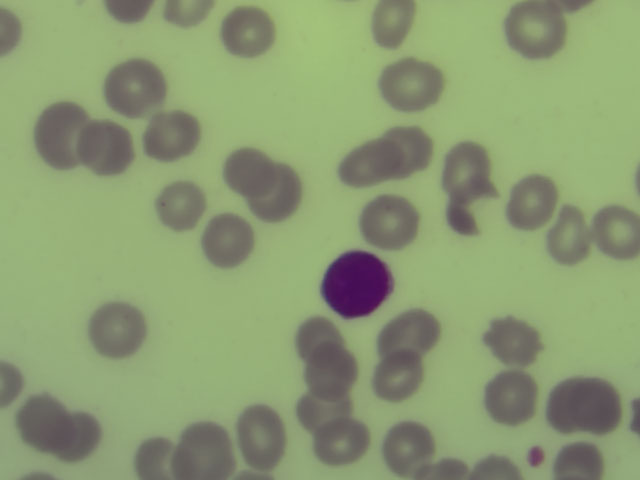Platlets: (525, 446, 544, 466)
RBC: (551, 380, 623, 438), (506, 4, 566, 62), (250, 162, 302, 225), (378, 61, 443, 111), (105, 61, 164, 116), (176, 424, 233, 480), (361, 194, 420, 248), (79, 122, 138, 175), (39, 101, 81, 173), (240, 404, 283, 473), (598, 201, 640, 271), (486, 312, 540, 366), (371, 348, 424, 403), (307, 340, 357, 398), (91, 307, 145, 359), (22, 396, 73, 451), (158, 182, 208, 237), (384, 423, 437, 474), (222, 8, 279, 55), (146, 117, 202, 164), (510, 175, 557, 231), (314, 420, 372, 465), (489, 370, 537, 424), (554, 204, 592, 271), (344, 139, 396, 186), (200, 216, 250, 263), (388, 124, 432, 176), (449, 139, 489, 196), (383, 311, 435, 354), (453, 184, 494, 237), (373, 4, 419, 50), (553, 444, 610, 480), (62, 412, 101, 464), (226, 153, 273, 194), (296, 393, 353, 423), (134, 439, 176, 479), (163, 1, 216, 31), (294, 318, 341, 349), (471, 453, 524, 480), (105, 1, 157, 28), (1, 12, 22, 62), (426, 459, 468, 480), (4, 358, 20, 408), (237, 470, 276, 480), (630, 395, 640, 433), (554, 2, 590, 12), (12, 472, 55, 480)
WBC: (324, 253, 393, 319)
